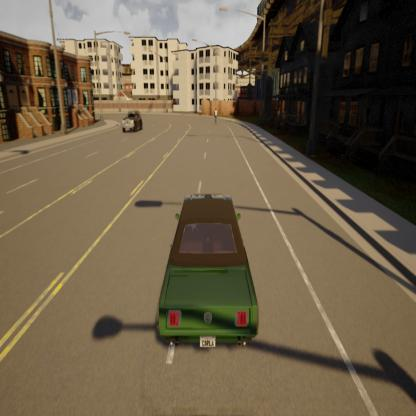Cars: (144, 185, 265, 360), (118, 105, 145, 137)
